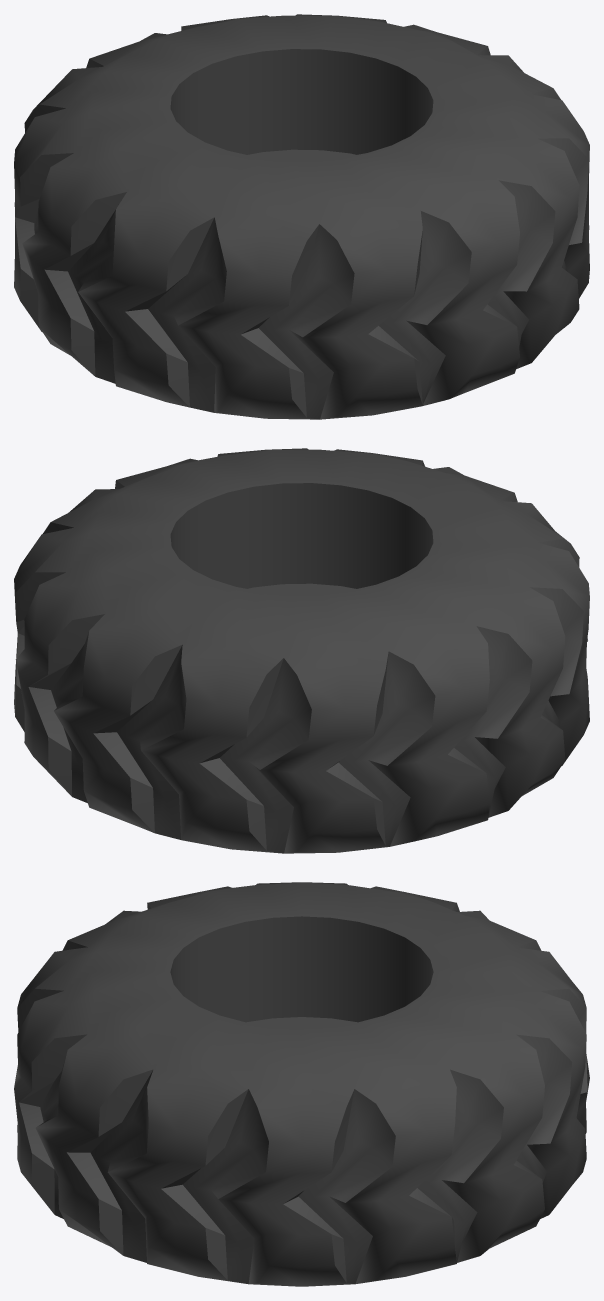
The model's file is Wheel.fbx.
3 renders of one model, top to bottom at view 1: azimuth 30°, elevation 25°; view 2: azimuth 150°, elevation 25°; view 3: azimuth 270°, elevation 25°, orthographic.
Parts seen in each view (by area): view 1: R4_002; view 2: R4_002; view 3: R4_002.
Boxes of the visible parts, bbox=[...] form: R4_002: bbox=[14, 14, 589, 419]; R4_002: bbox=[14, 448, 589, 853]; R4_002: bbox=[14, 882, 589, 1286].
Bounding box in the file's own units: 2003 × 818 × 2002.
